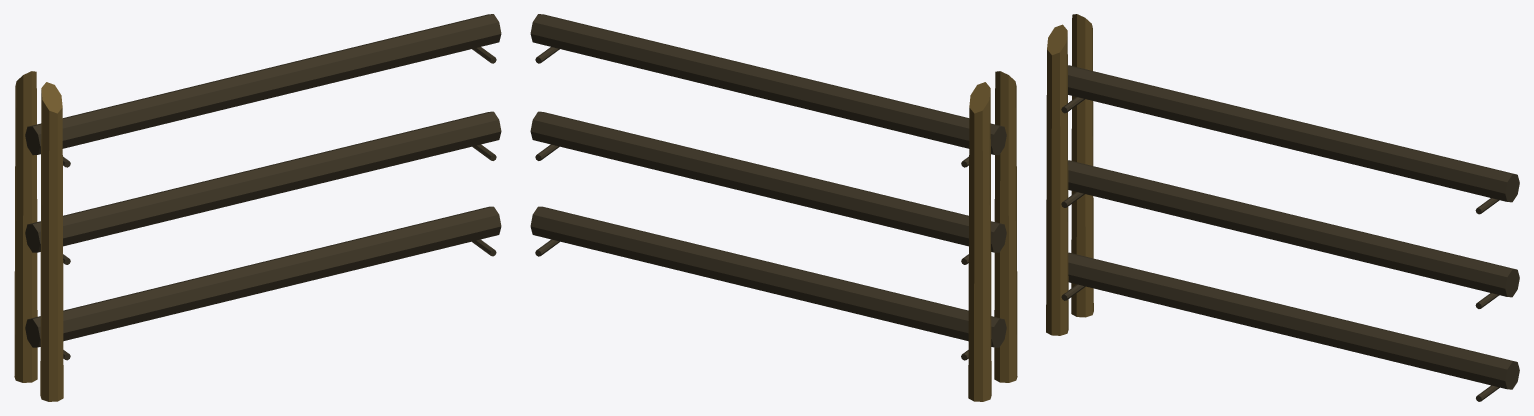
The model's file is Valla partida a la mitad.fbx.
3 views of the same model, side by side, from view 1: azimuth 30°, elevation 25°; view 2: azimuth 150°, elevation 25°; view 3: azimuth 330°, elevation 25° (orthographic). The views are drawn at different scales.
Visible parts, largest first — view 1: Cylinder.010; view 2: Cylinder.010; view 3: Cylinder.010.
Boxes of the visible parts, x1,y1,x2,y2 form: Cylinder.010: [14, 14, 501, 401]; Cylinder.010: [530, 14, 1017, 401]; Cylinder.010: [1046, 14, 1519, 401].
Size of the model in its own units: 415 by 265 by 58.56.
